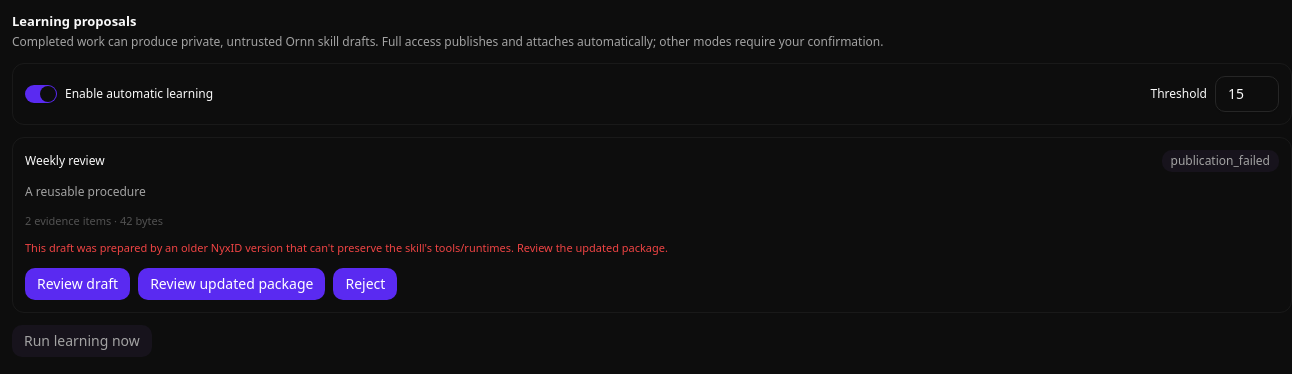
Test case: rebuilds a legacy learned package from the panel instead of publishing it
Expected: the text "older NyxID version that can't preserve the skill's tools/runtimes" is shown, [25,240,668,255]
Expected: the button "Publish & request confirmation" is not shown
Click the button "Review updated package".
click(232, 284)  # box [138,268,326,300]
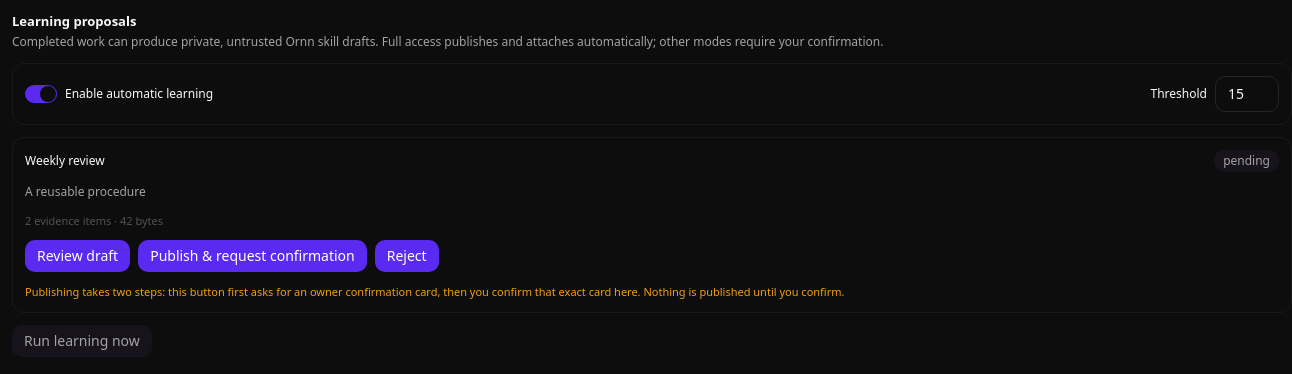
Expected: the button "Publish & request confirmation" is shown, [138,240,367,272]
Expected: the button "Review updated package" is gone
